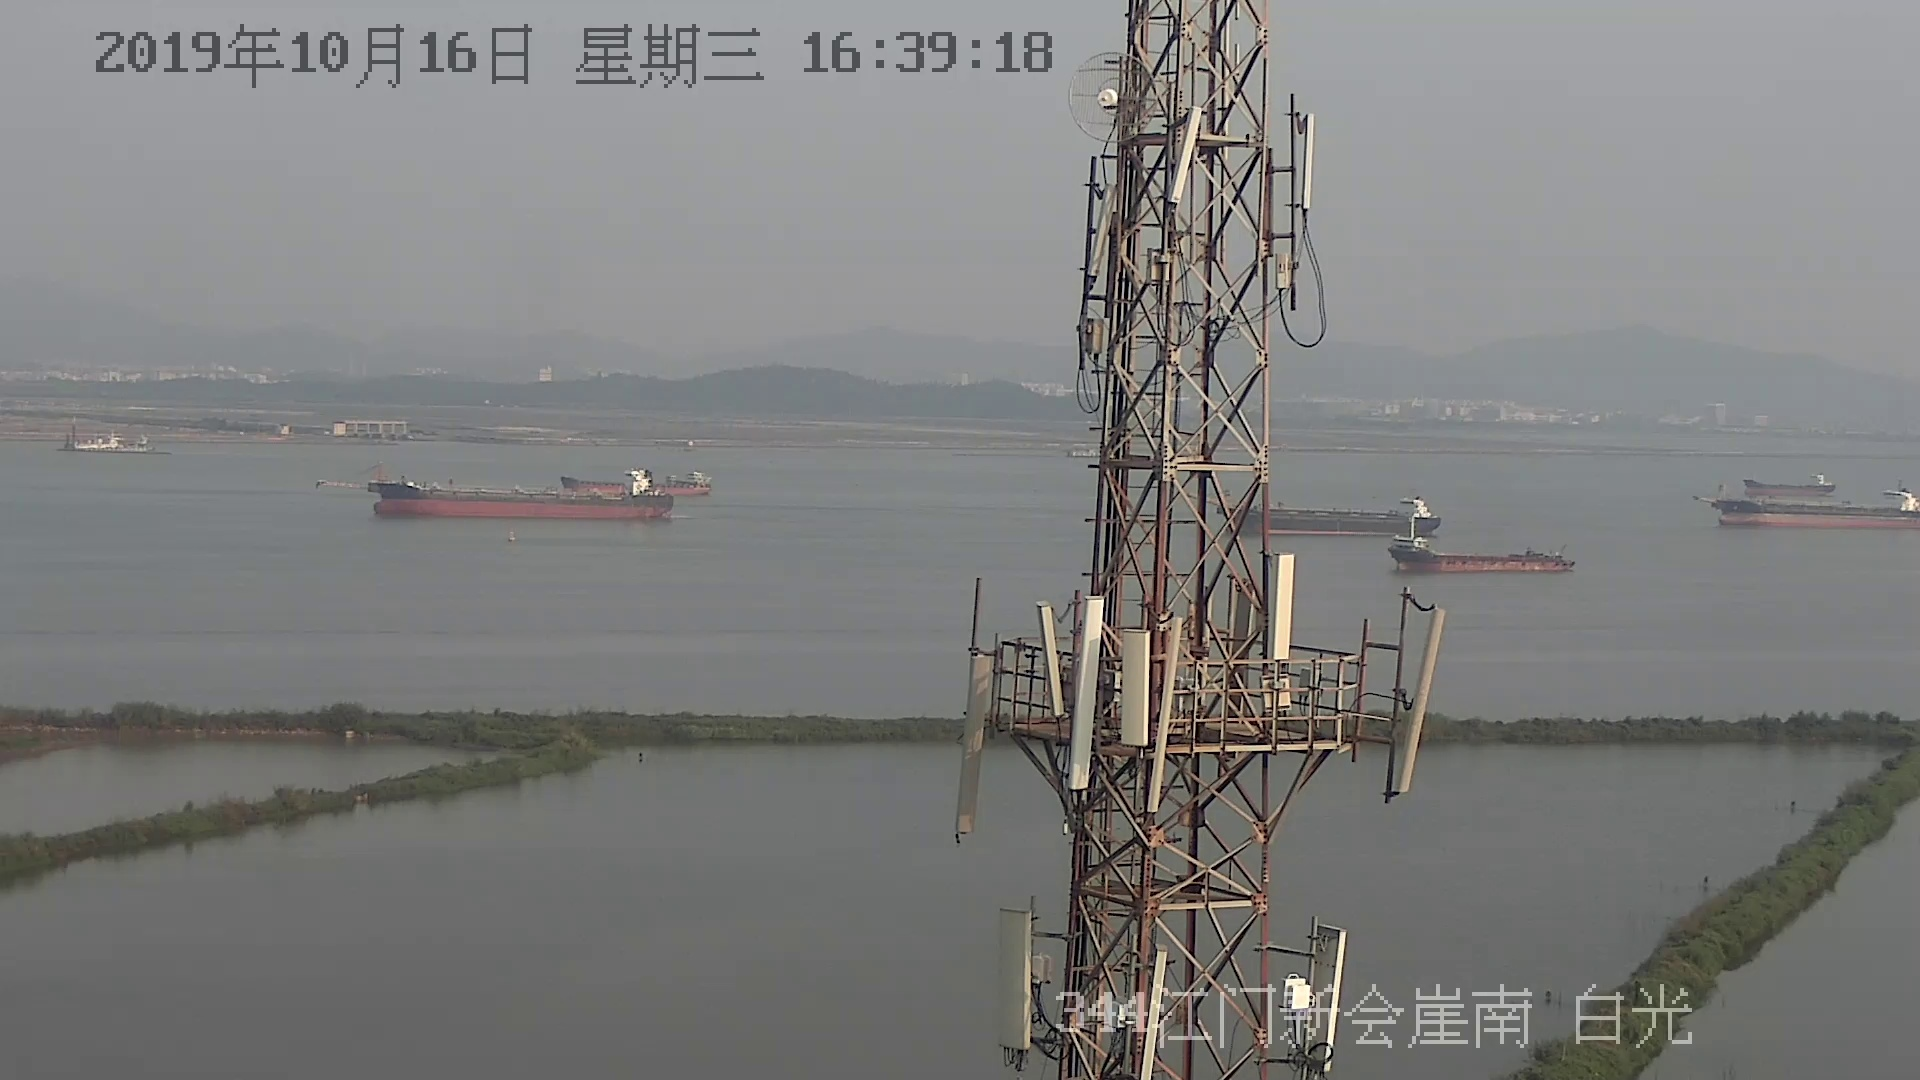ship: (340, 471, 673, 518), (1213, 493, 1436, 535), (1693, 491, 1920, 527), (1387, 534, 1577, 578), (564, 463, 715, 500), (58, 425, 156, 455), (1742, 473, 1840, 500)
